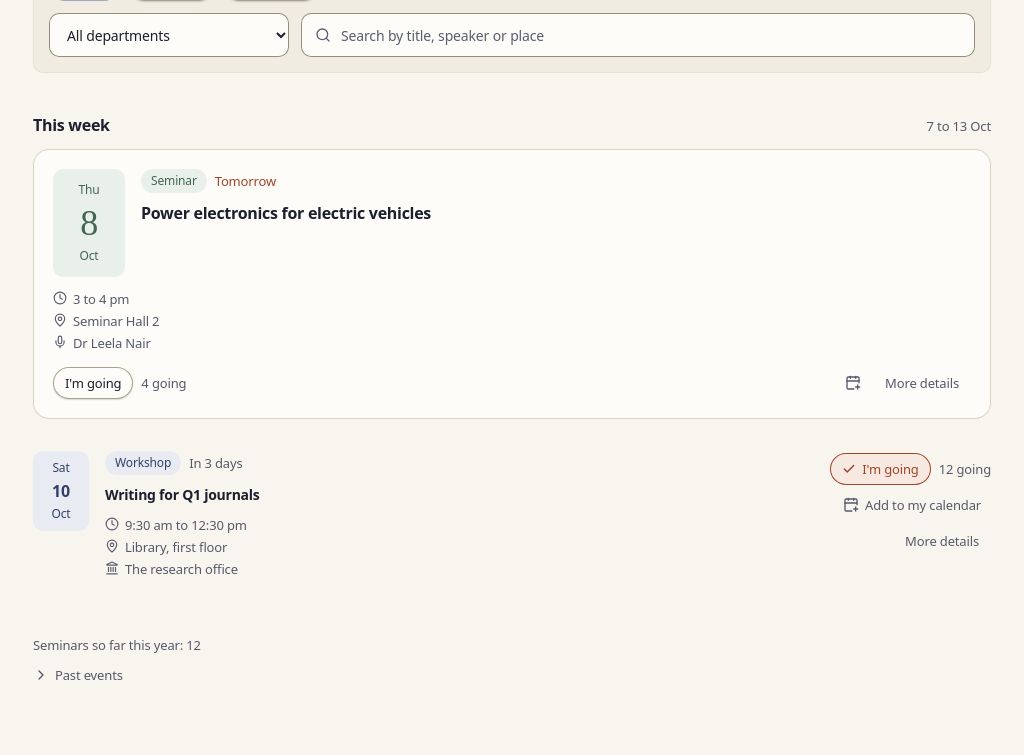
Scenario: Inviting people: who may › says so plainly when the server refuses the list
The image size is (1024, 755).
(page scrolled)
Click the button "More details" below "Add to my calendar" at point(942, 541), box 893,525 -> 991,557
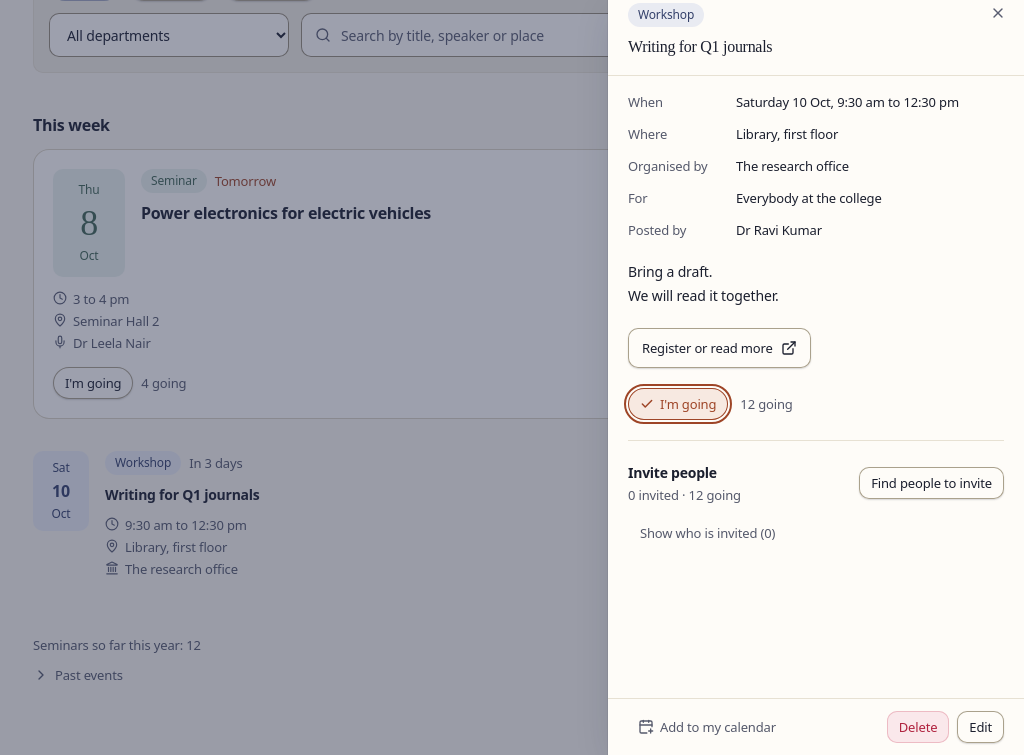
Click the button "Find people to invite" at point(932, 483), box 859,467 -> 1004,499
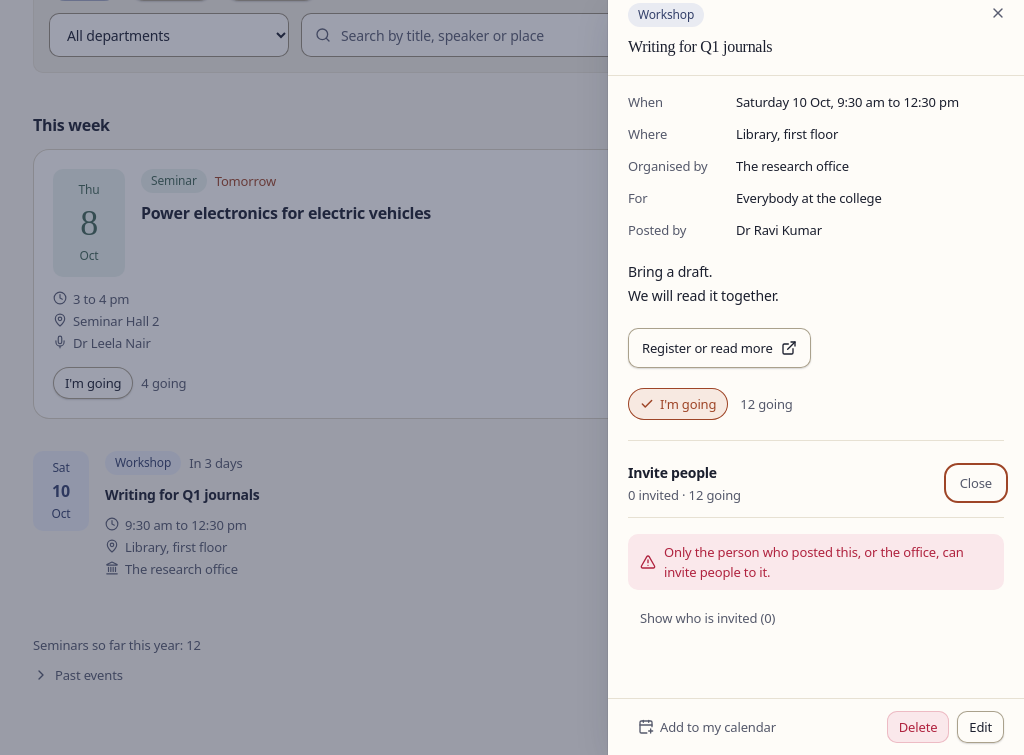
Result: the text "Only the person who posted this, or the office, can invite people to it." is shown at 664,542 -> 992,582
